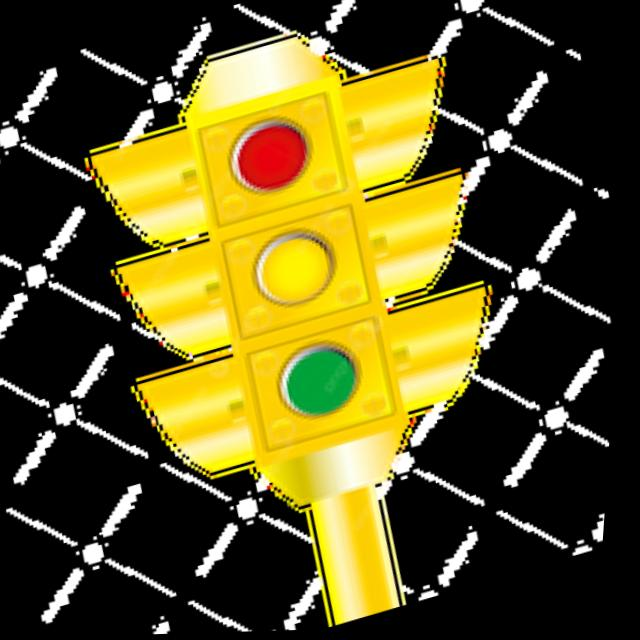green_light: (200, 283, 432, 469)
red_light: (188, 85, 350, 226)
yellow_light: (196, 186, 400, 346)
